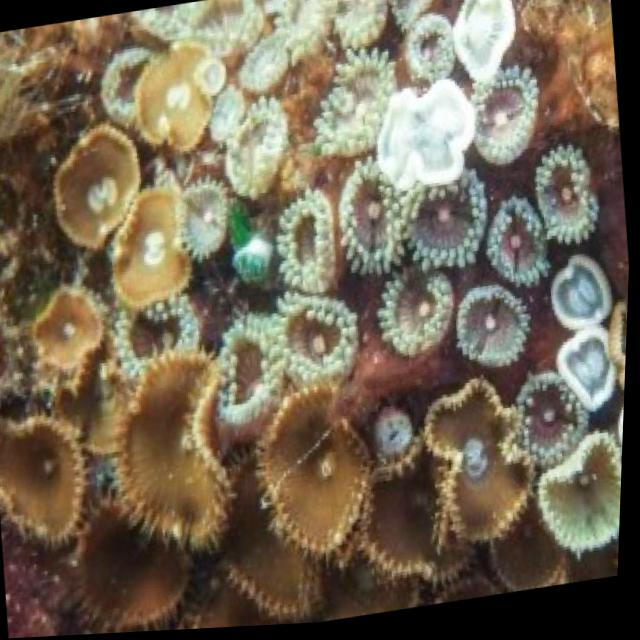Bleached Coral: (174, 0, 640, 427)
